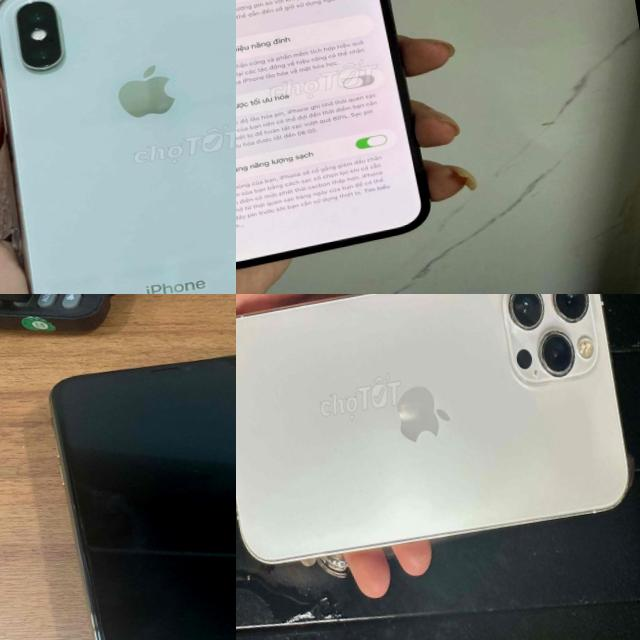gen_12_13: (236, 294, 640, 579), (236, 0, 440, 279)
gen_x_xs: (0, 0, 236, 294), (51, 357, 236, 640)
